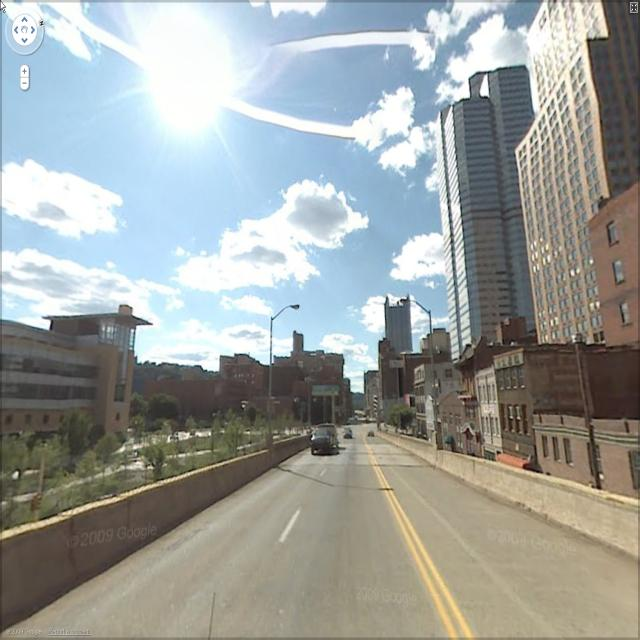b_1: (522, 1, 612, 353), (440, 60, 546, 346), (0, 292, 154, 443), (540, 400, 640, 500), (146, 352, 268, 426), (589, 184, 640, 349), (497, 339, 537, 470), (291, 352, 353, 426), (458, 344, 488, 462), (481, 370, 513, 468), (378, 332, 406, 430), (382, 288, 418, 353)
